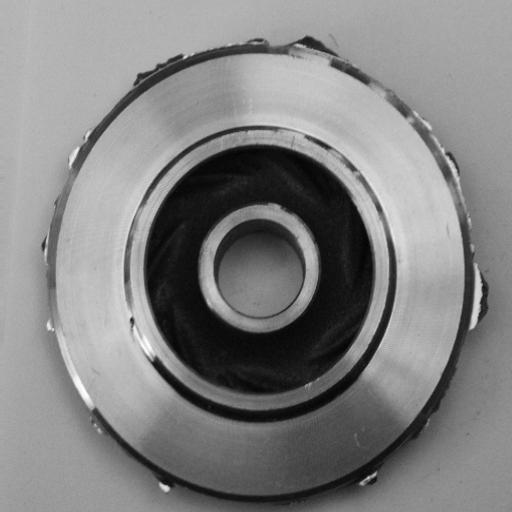casting_with_burr: (35, 28, 490, 512)
scratch: (119, 295, 159, 365)
